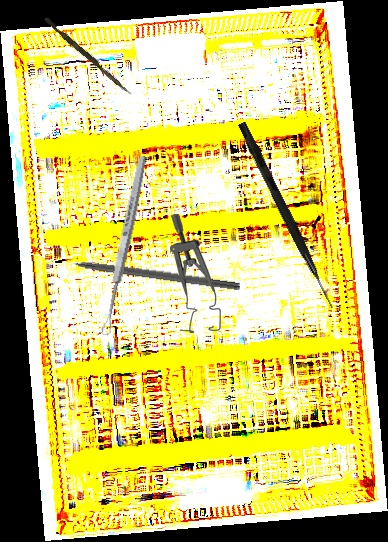Hook Surgical: (235, 121, 339, 310), (50, 253, 241, 292)
Pusher: (42, 16, 135, 97)
Speculum: (170, 214, 221, 333)
Surgical Spoon: (99, 154, 149, 337)
